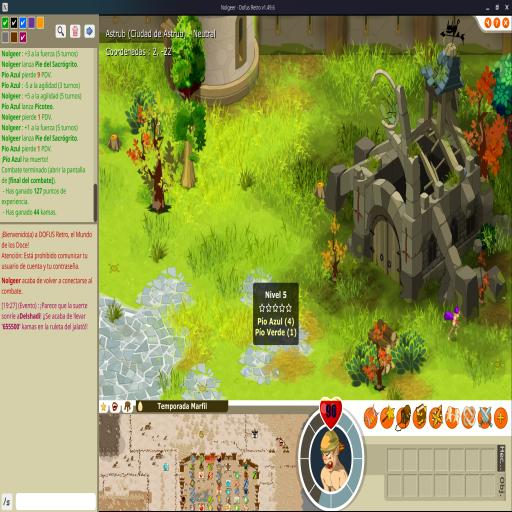Enemigos: (272, 367, 280, 378), (244, 368, 251, 378)
Personaje: (443, 300, 462, 343)
